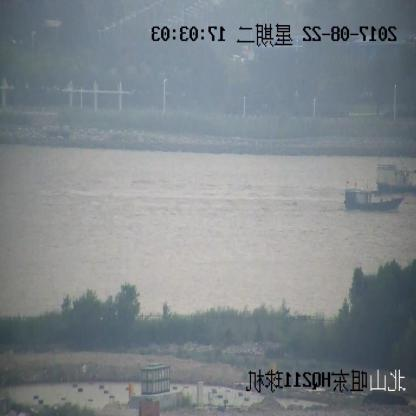Fishing Boat: (344, 183, 402, 211), (374, 164, 415, 197)
